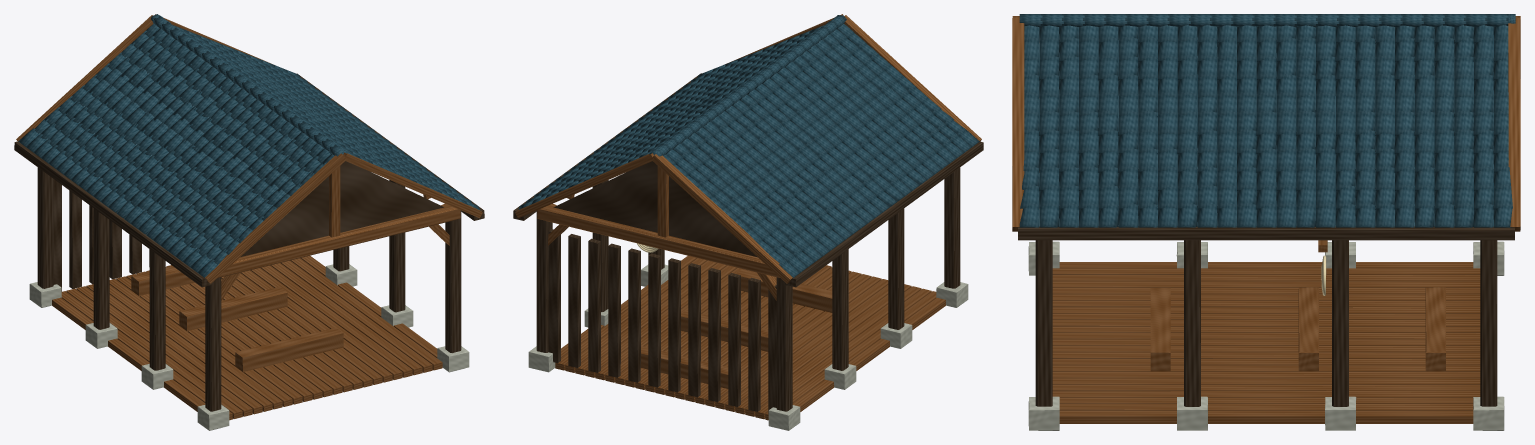
The model's file is boatshed_open.glb.
The picture shows the model from 3 angles, left to right: view 1: azimuth 30°, elevation 25°; view 2: azimuth 150°, elevation 25°; view 3: azimuth 270°, elevation 25°; orthographic projection. The views are drawn at different scales.
Visible parts, largest first — view 1: boatshed_open_Joinery.001, boatshed_open_Roof.001, boatshed_open_Structure.001; view 2: boatshed_open_Joinery.001, boatshed_open_Roof.001, boatshed_open_Structure.001; view 3: boatshed_open_Roof.001, boatshed_open_Joinery.001, boatshed_open_Structure.001.
Boxes of the visible parts, bbox=[...] form: boatshed_open_Joinery.001: bbox=[14, 14, 484, 420]; boatshed_open_Roof.001: bbox=[18, 14, 480, 277]; boatshed_open_Structure.001: bbox=[29, 264, 469, 430]; boatshed_open_Joinery.001: bbox=[513, 14, 983, 420]; boatshed_open_Roof.001: bbox=[518, 15, 979, 277]; boatshed_open_Structure.001: bbox=[528, 264, 968, 430]; boatshed_open_Roof.001: bbox=[1019, 14, 1515, 227]; boatshed_open_Joinery.001: bbox=[1012, 16, 1520, 423]; boatshed_open_Structure.001: bbox=[1028, 241, 1504, 430].
Bounding box in the file's own units: 6.13 × 5.19 × 7.2.
Materials: 1 (1 with a texture image).
